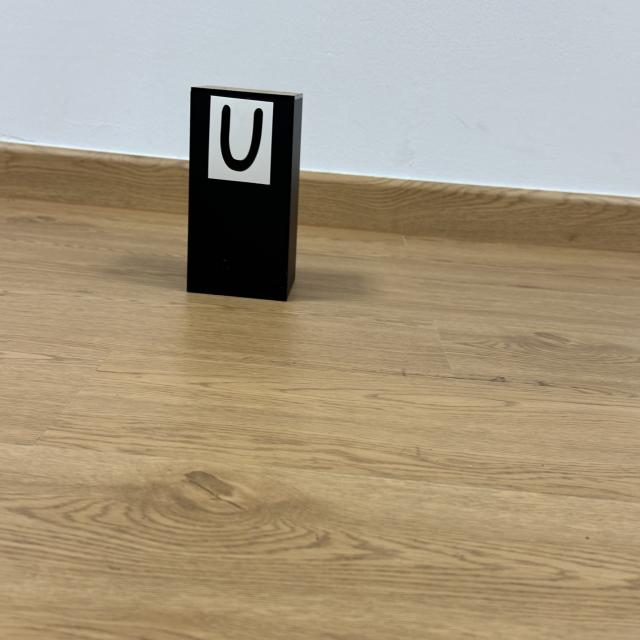U: (220, 105, 262, 172)
